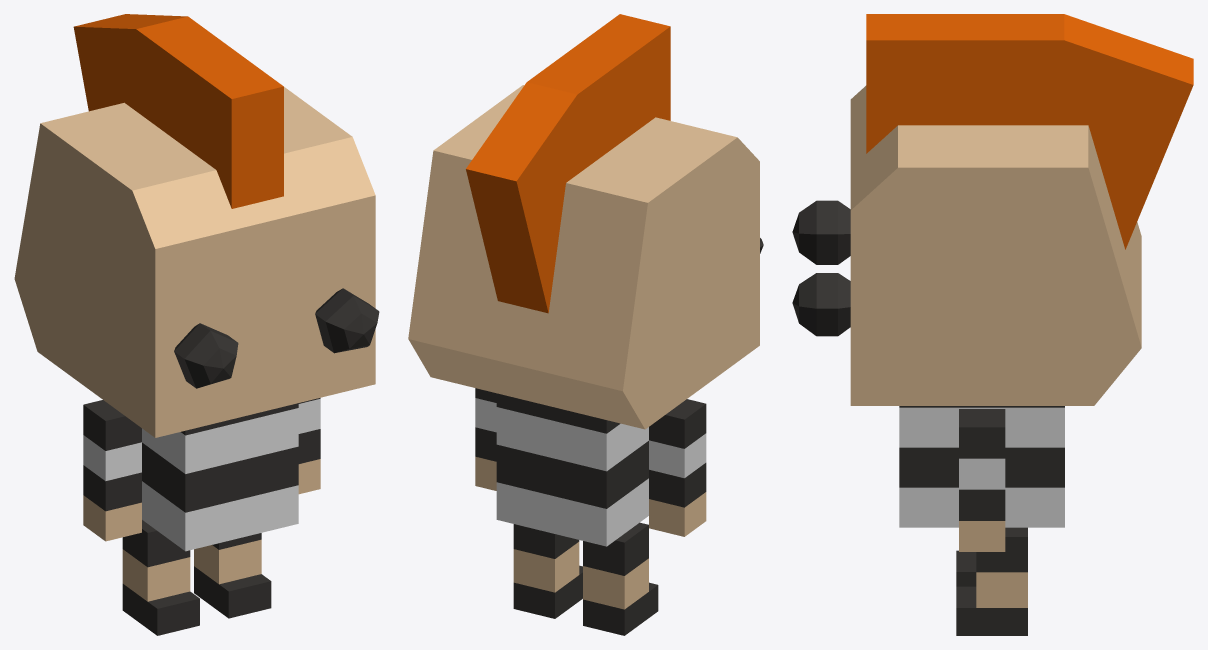
Rendered from Character_pisoner-normal_ModelNEW.fbx.
The picture shows the model from 3 angles, left to right: view 1: azimuth 30°, elevation 25°; view 2: azimuth 150°, elevation 25°; view 3: azimuth 270°, elevation 25°; orthographic projection. The views are drawn at different scales.
Parts seen in each view (by area): view 1: Head, Body, R_arm, R_leg, L_leg, L_arm; view 2: Head, Body, R_arm, R_leg, L_leg, L_arm; view 3: Head, Body, L_arm, L_leg, R_leg.
Boxes of the visible parts, x1,y1,x2,y2 form: Head: [14, 14, 379, 437]; Body: [142, 403, 298, 551]; R_arm: [83, 400, 141, 541]; R_leg: [122, 520, 199, 635]; L_leg: [194, 533, 271, 618]; L_arm: [298, 398, 320, 494]; Head: [408, 14, 763, 429]; Body: [496, 393, 648, 546]; R_arm: [649, 399, 706, 536]; R_leg: [583, 522, 658, 635]; L_leg: [513, 524, 582, 618]; L_arm: [475, 388, 496, 490]; Head: [792, 14, 1193, 405]; Body: [899, 406, 1064, 527]; L_arm: [959, 409, 1005, 551]; L_leg: [956, 527, 1027, 635]; R_leg: [956, 550, 976, 586].
Size of the model in its own units: 1 by 2.43 by 1.53.
